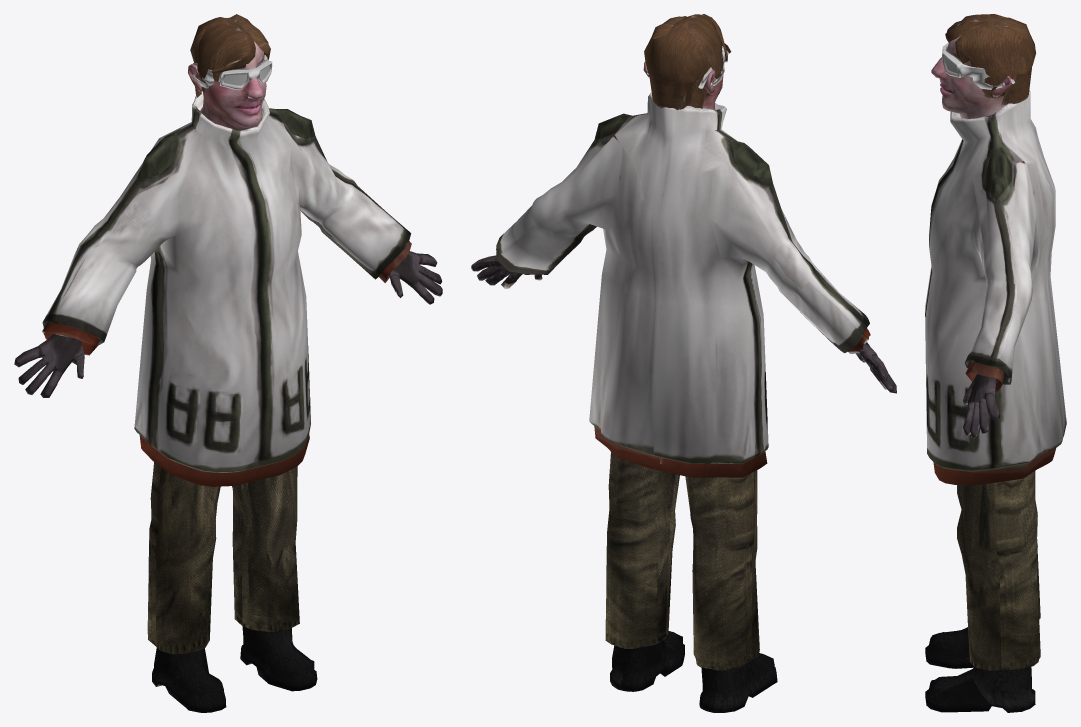
Rendered from doc.fbx.
3 renders of one model, left to right at view 1: azimuth 30°, elevation 25°; view 2: azimuth 150°, elevation 25°; view 3: azimuth 270°, elevation 25°, orthographic.
Visible parts, largest first — view 1: polySurface2, polySurface9, polySurface10, polySurface7, glasses:polySurface10, polySurface8; view 2: polySurface2, polySurface4, polySurface7, polySurface5, polySurface10, polySurface9; view 3: polySurface2, pPlane6, polySurface10, glasses:polySurface10, polySurface4, polySurface5, polySurface6, polySurface7.
Boxes of the visible parts, <box> form: polySurface2: <box>42,21,411,712</box>; polySurface9: <box>14,334,84,397</box>; polySurface10: <box>389,251,442,304</box>; polySurface7: <box>197,22,246,83</box>; glasses:polySurface10: <box>192,55,272,89</box>; polySurface8: <box>213,39,250,81</box>; polySurface2: <box>496,19,870,712</box>; polySurface4: <box>647,26,709,108</box>; polySurface7: <box>685,14,723,78</box>; polySurface5: <box>649,74,698,110</box>; polySurface10: <box>471,255,542,289</box>; polySurface9: <box>856,342,896,393</box>; polySurface2: <box>925,18,1066,712</box>; pPlane6: <box>955,26,1022,90</box>; polySurface10: <box>963,374,999,438</box>; glasses:polySurface10: <box>942,42,1014,89</box>; polySurface4: <box>1001,17,1035,74</box>; polySurface5: <box>1001,67,1031,105</box>; polySurface6: <box>945,20,1007,42</box>; polySurface7: <box>955,14,1006,27</box>.
Bounding box in the file's own units: 11.2 × 16.79 × 3.25.
